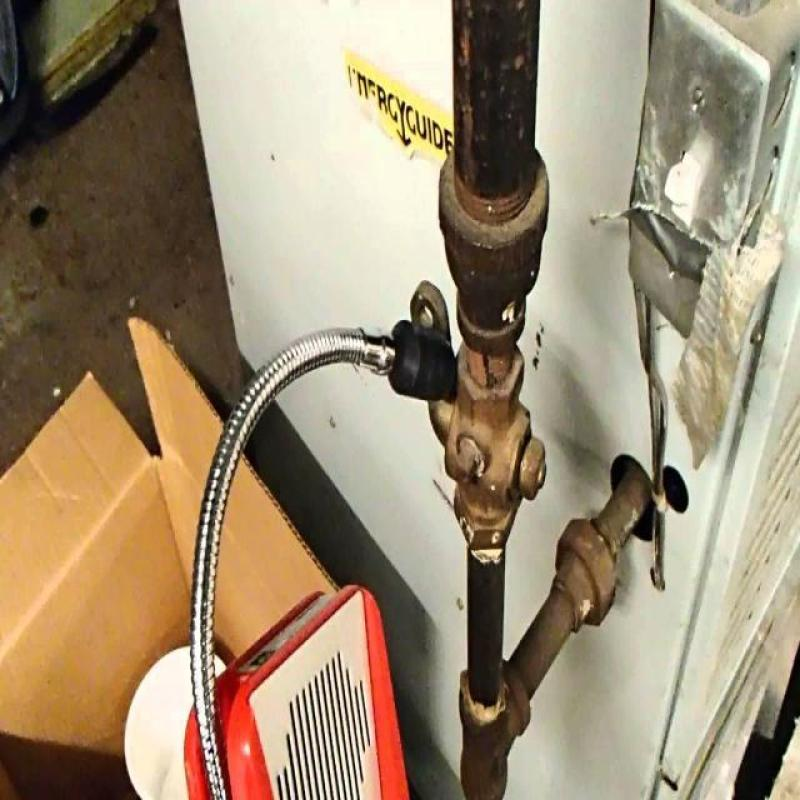Healthy: (429, 444, 527, 635)
